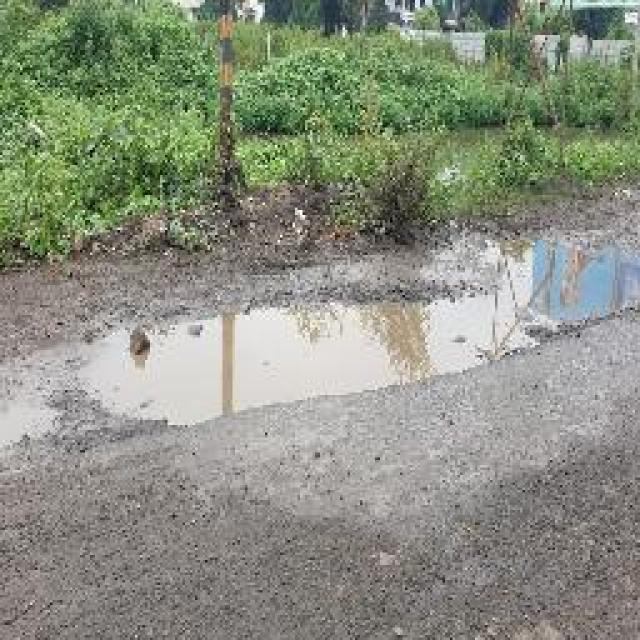puddle: (43, 251, 640, 432)
